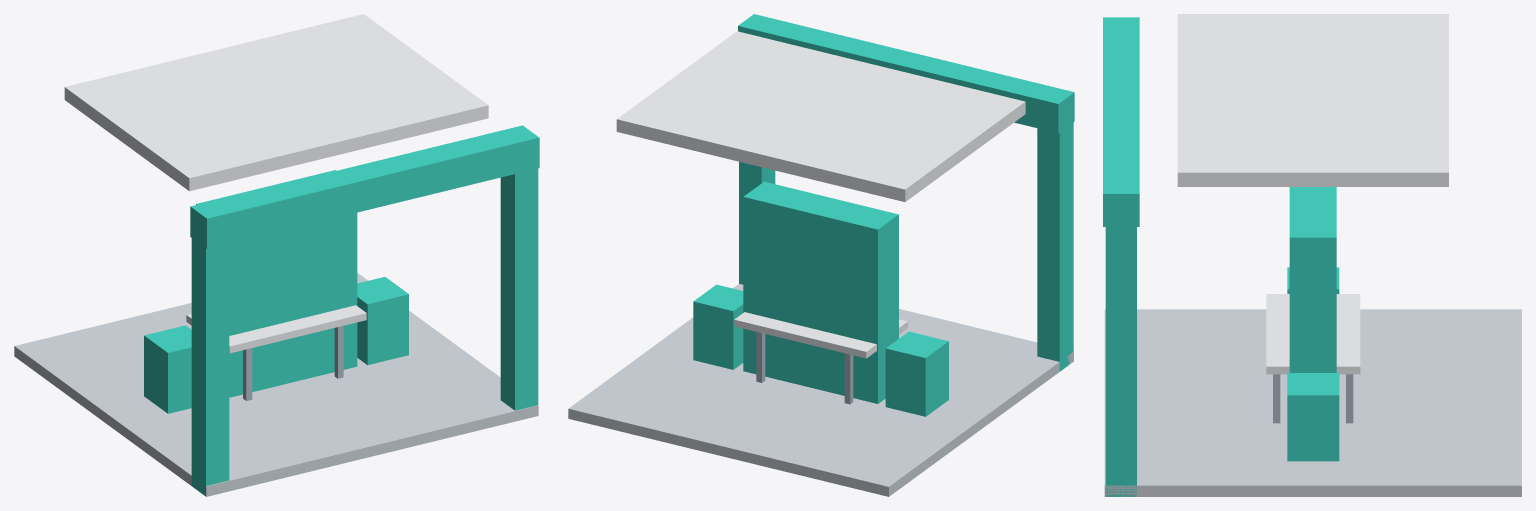
The picture shows the model from 3 angles, left to right: view 1: azimuth 30°, elevation 25°; view 2: azimuth 150°, elevation 25°; view 3: azimuth 270°, elevation 25°; orthographic projection. The views are drawn at different scales.
Parts seen in each view (by area): view 1: Exhibition Booth Concept; view 2: Exhibition Booth Concept; view 3: Exhibition Booth Concept.
Boxes of the visible parts, x1=… form: Exhibition Booth Concept: x1=14, y1=14, x2=539, y2=496; Exhibition Booth Concept: x1=568, y1=14, x2=1074, y2=496; Exhibition Booth Concept: x1=1103, y1=14, x2=1521, y2=496.
Bounding box in the file's own units: 4 × 3.34 × 4.02.
